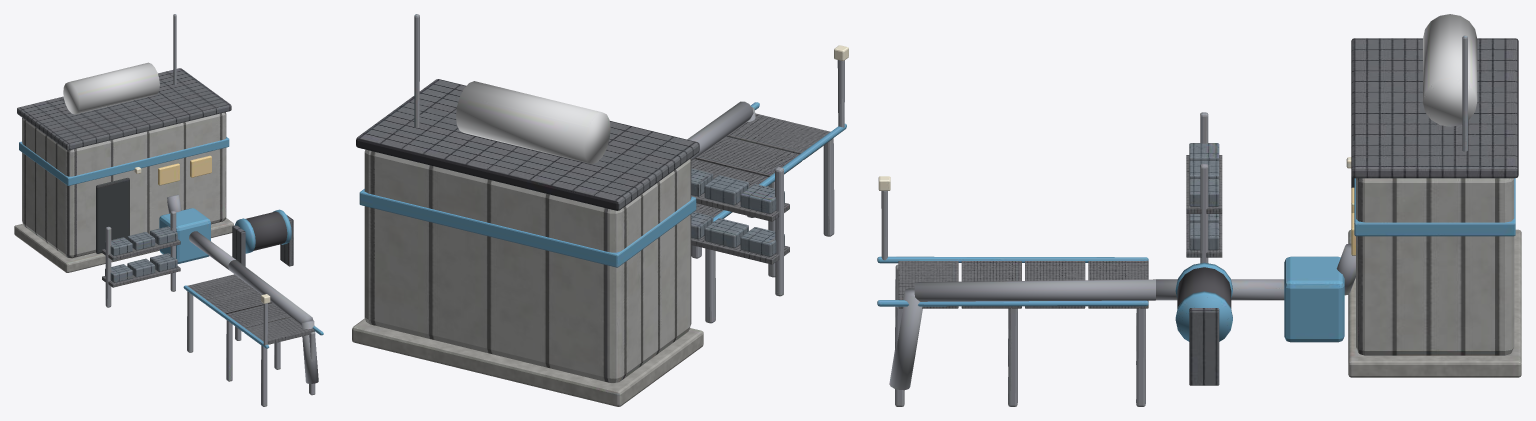
Rendered from fishery.glb.
The picture shows the model from 3 angles, left to right: view 1: azimuth 30°, elevation 25°; view 2: azimuth 150°, elevation 25°; view 3: azimuth 270°, elevation 25°; orthographic projection. The views are drawn at different scales.
Parts seen in each view (by area): view 1: fishery; view 2: fishery; view 3: fishery.
Part boxes in pixels (box(x1,y1,x2,y2)): fishery: box(14, 14, 323, 406); fishery: box(352, 14, 848, 406); fishery: box(877, 14, 1521, 406).
Bounding box in the file's own units: 2.29 × 2.92 × 4.27.
1 material, 1 textured.
